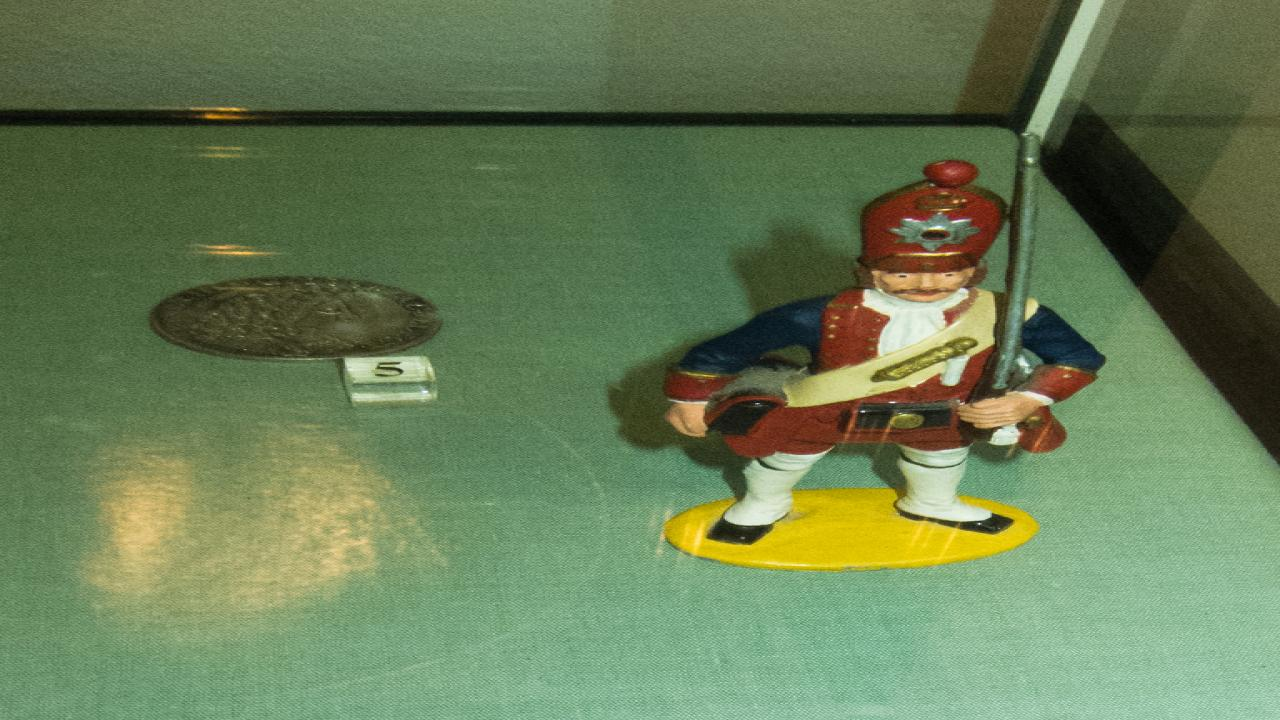coin: (138, 275, 455, 363)
